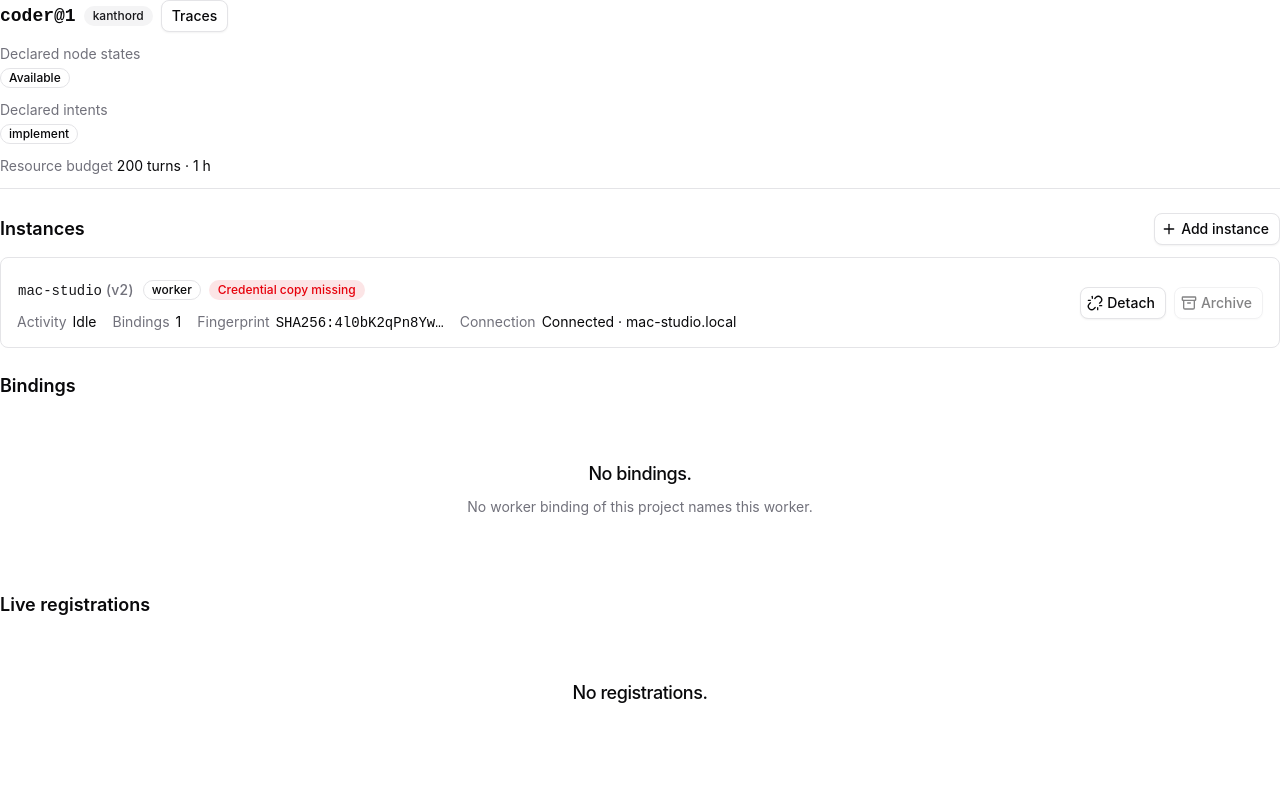
WorkerScreen › drops the runtime from the container text when the runtime is unknown
Click the button "Add instance" at (1217, 229), box [1154,213,1279,245]
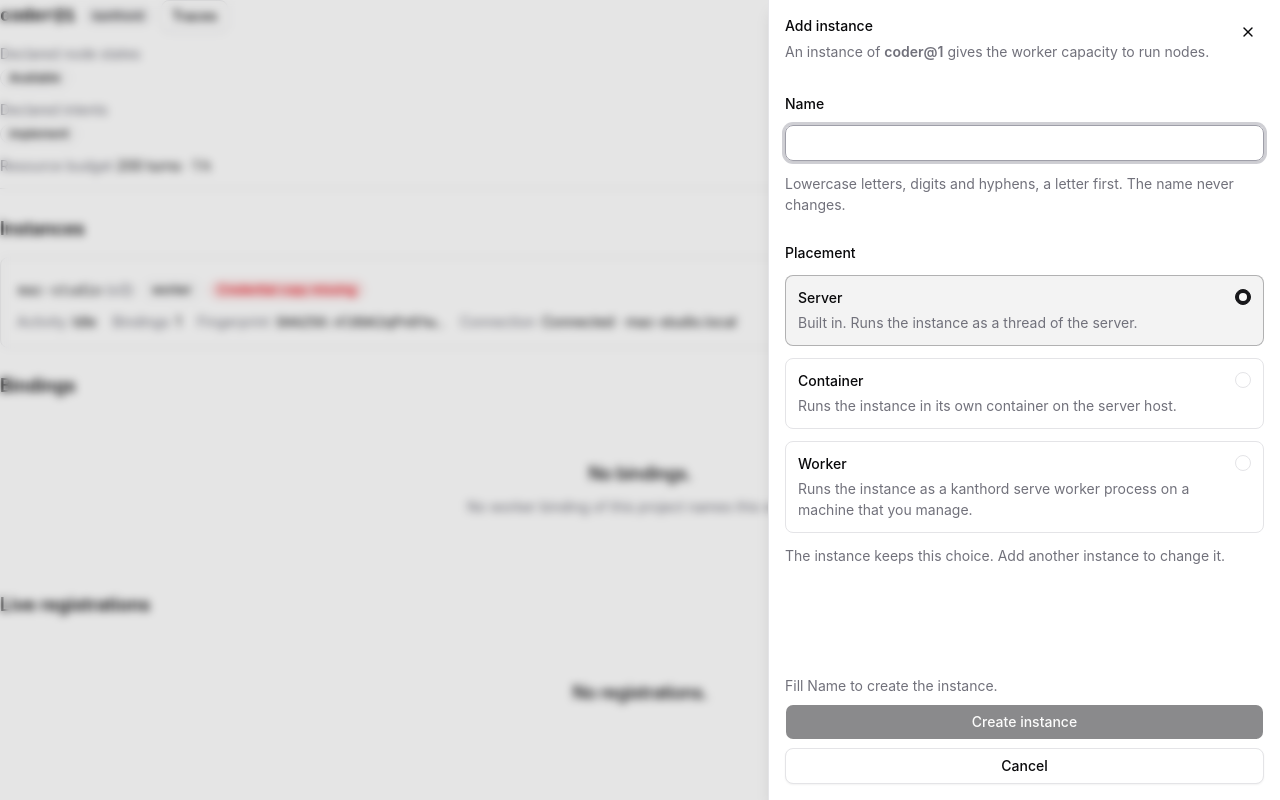
expect the text "Runs the instance in its own container on the server host." is shown: met, box [798,395,1223,416]
